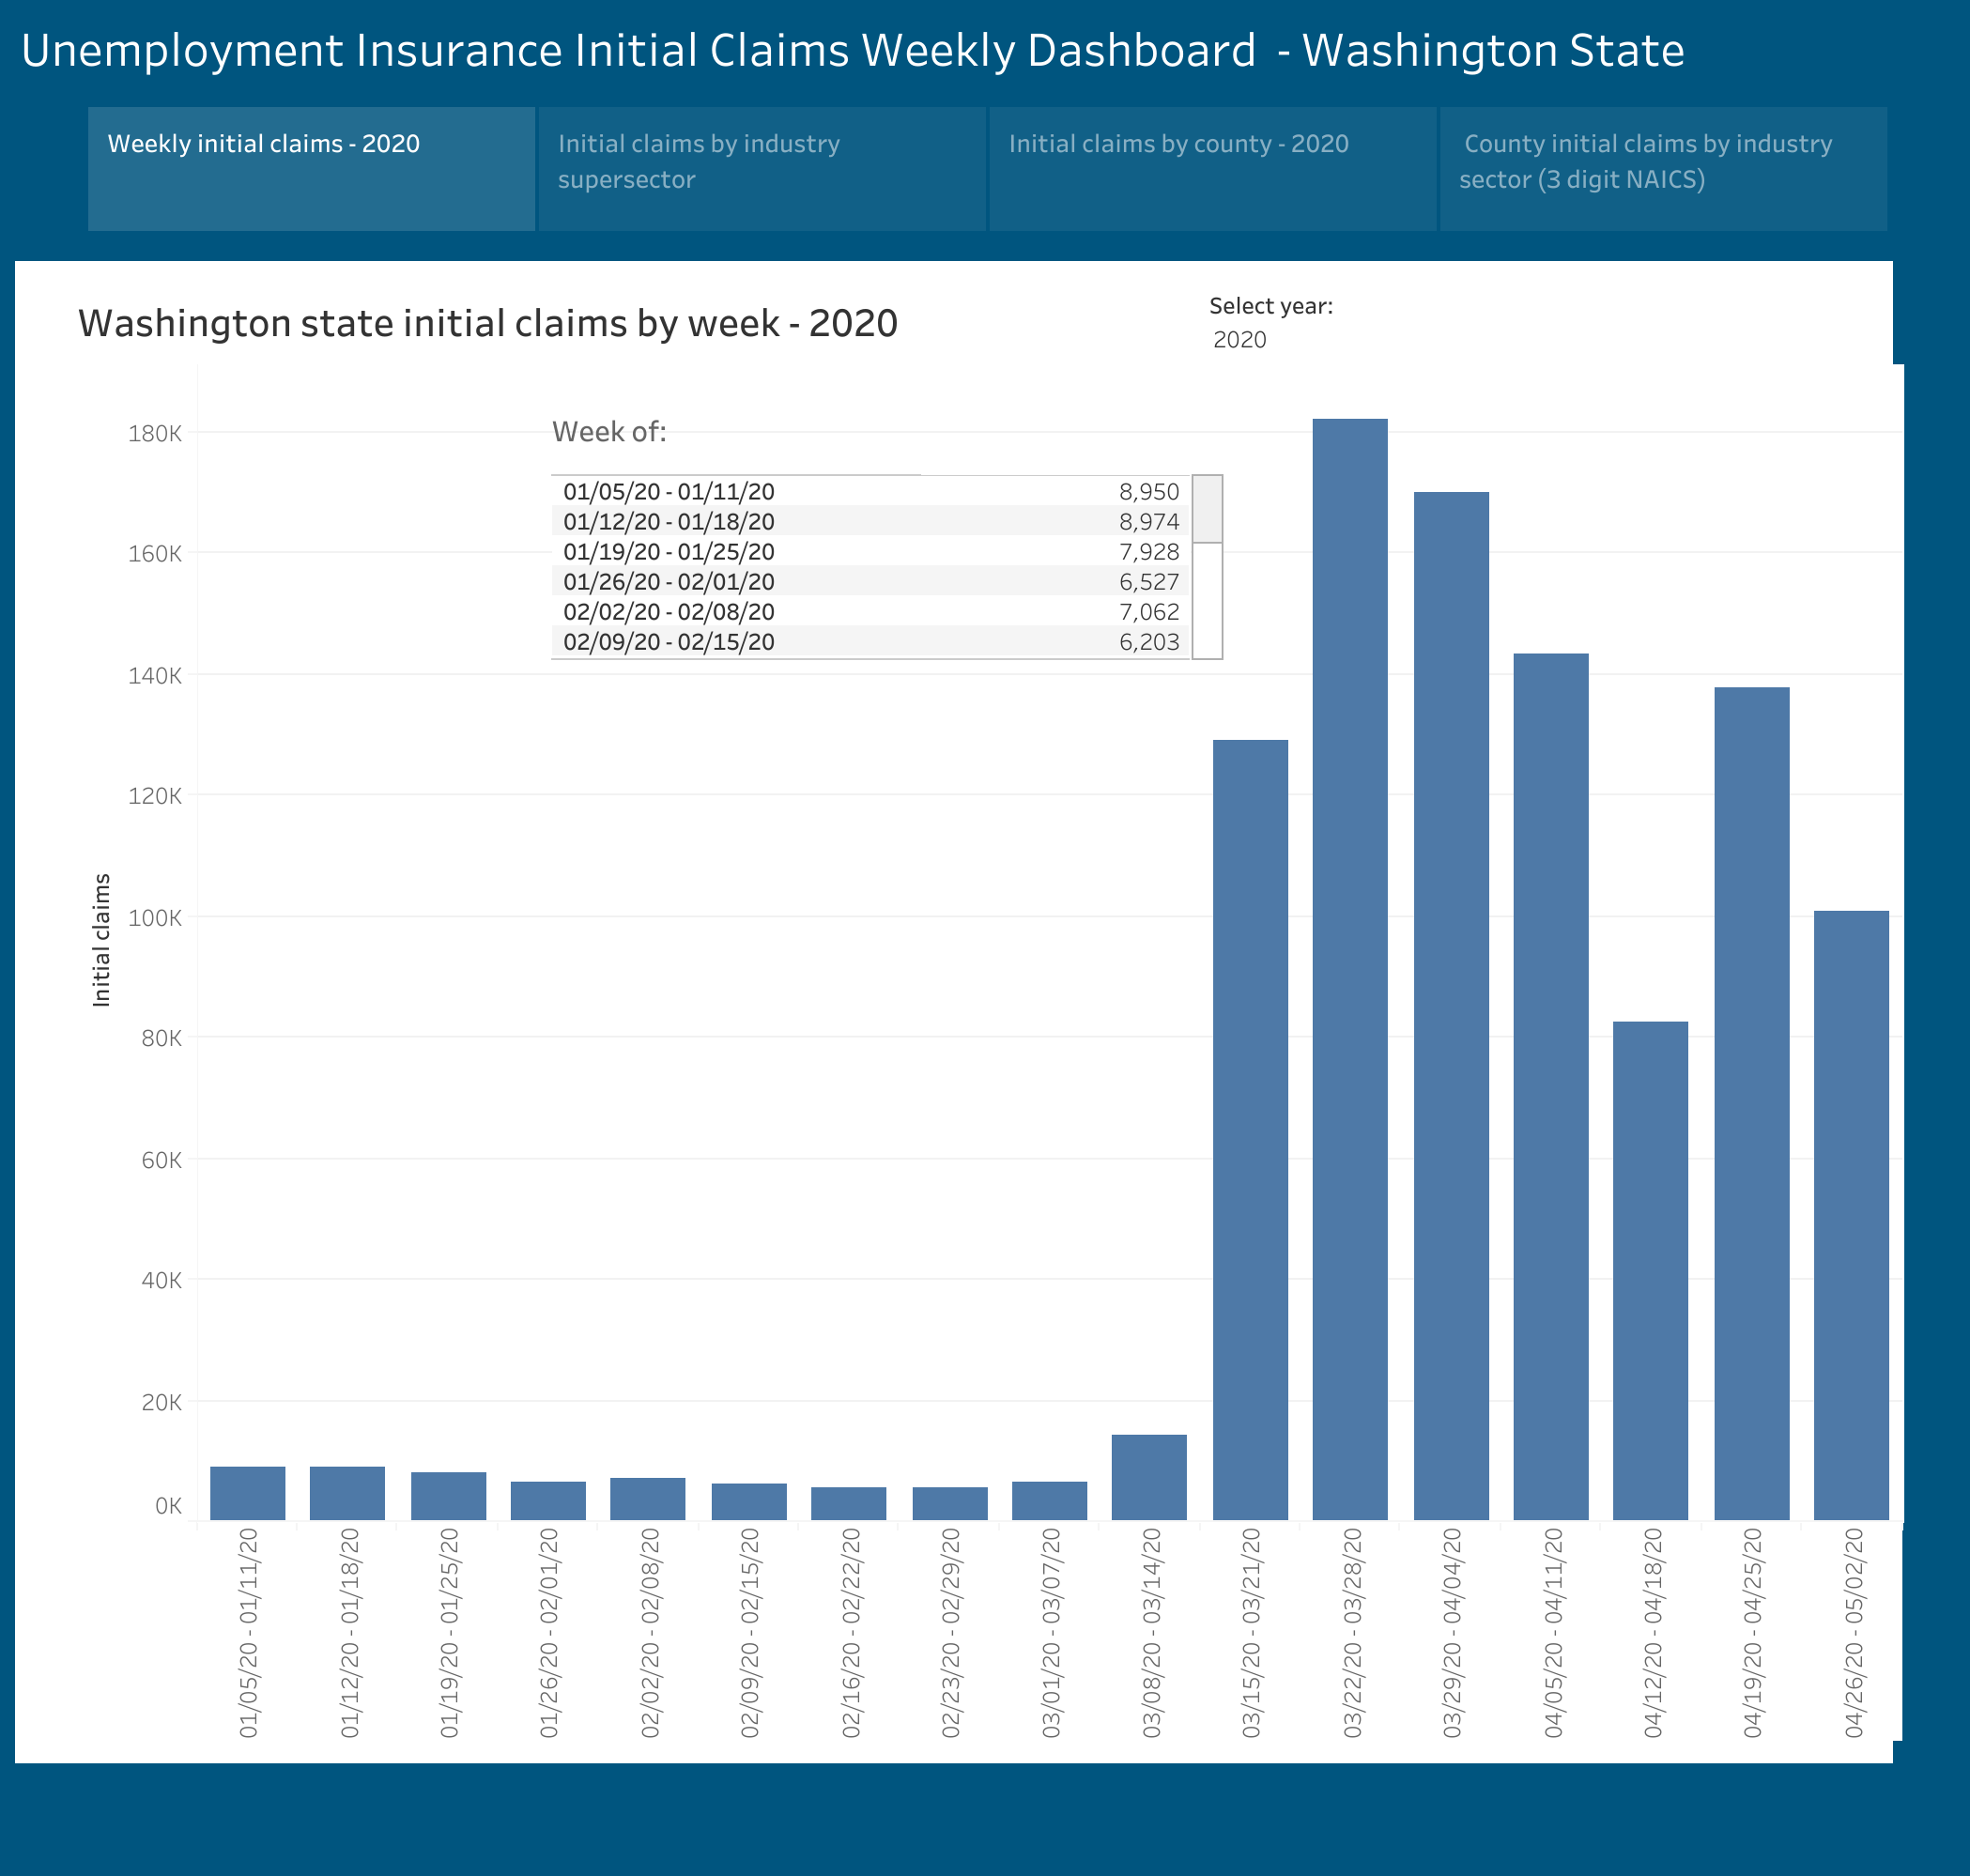

Layout of this report page (visuals, bound fields, positions):
{"tool":"tableau","page":{"name":"Dashboard 3","canvas":[1000,800],"ordinal":2},"visuals":[{"type":"filter","title":"Sheet 4","param":"[federated.1rpj94q0v325jq102016u1pc9xna].[yr:Year:ok]","box":[340,11,288,63]},{"type":"filter","title":"Sheet 4","param":"[federated.1rpj94q0v325jq102016u1pc9xna].[none:County:nk]","box":[7,15,221,62]},{"type":"worksheet","title":"Sheet 4","mark":"Bar","rows":["Initial claims"],"cols":["County","Reflect week"],"box":[11,81,982,659]},{"type":"text","box":[87,745,891,46]}]}

Visuals, with their boxes on the page's 1000x800 design canvas (x1, y1, x2, y2). These are canvas units, not pixel positions in the 1970x1876 screenshot, which may show the page scaled, cropped or inside an application window:
"Sheet 4" filter: select_region(340, 11, 628, 74)
"Sheet 4" filter: select_region(7, 15, 228, 77)
"Sheet 4" worksheet (Bar marks): select_region(11, 81, 993, 740)
text: select_region(87, 745, 978, 791)
